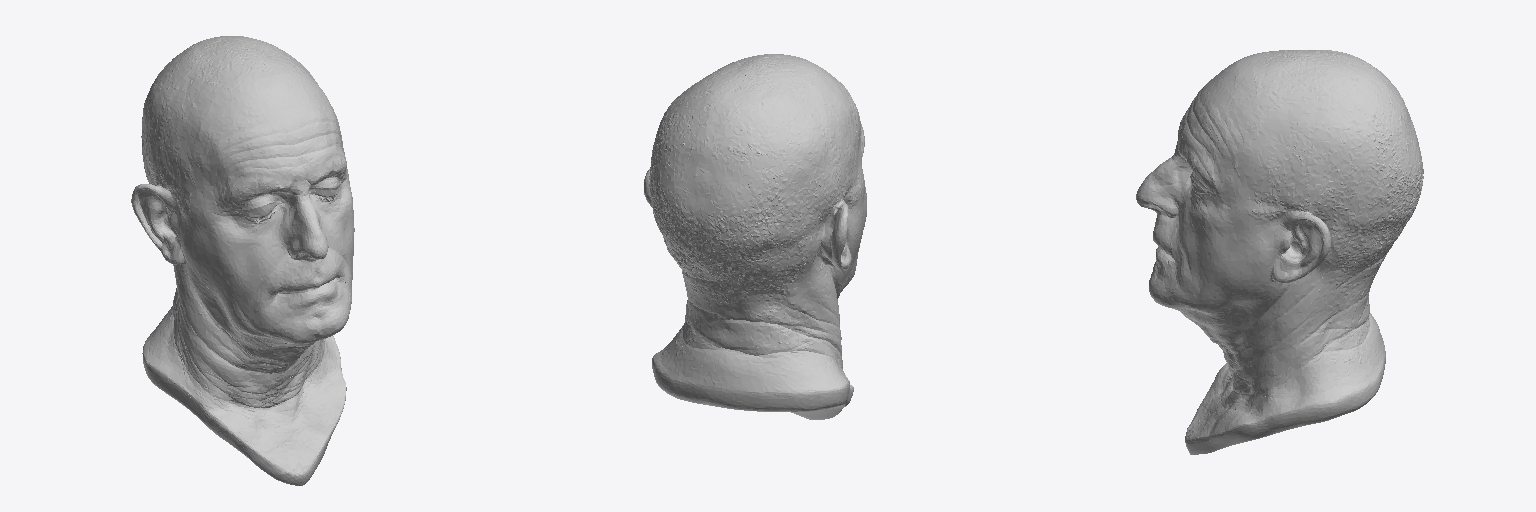
Rendered from Head20k.OBJ.
3 renders of one model, left to right at view 1: azimuth 30°, elevation 25°; view 2: azimuth 150°, elevation 25°; view 3: azimuth 270°, elevation 25°, orthographic.
Visible parts, largest first — view 1: Head20k; view 2: Head20k; view 3: Head20k.
Part boxes in pixels (x1,y1,x2,y2): Head20k: (131, 36, 354, 485); Head20k: (644, 54, 866, 419); Head20k: (1136, 50, 1423, 454).
Bounding box in the file's own units: 1.12 × 2.08 × 1.37.